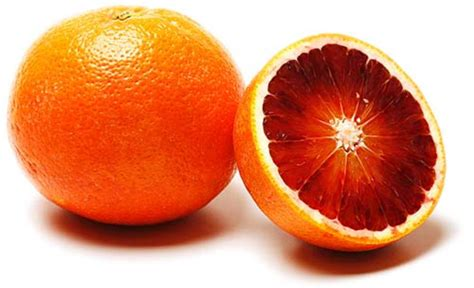orange: (7, 4, 248, 230)
